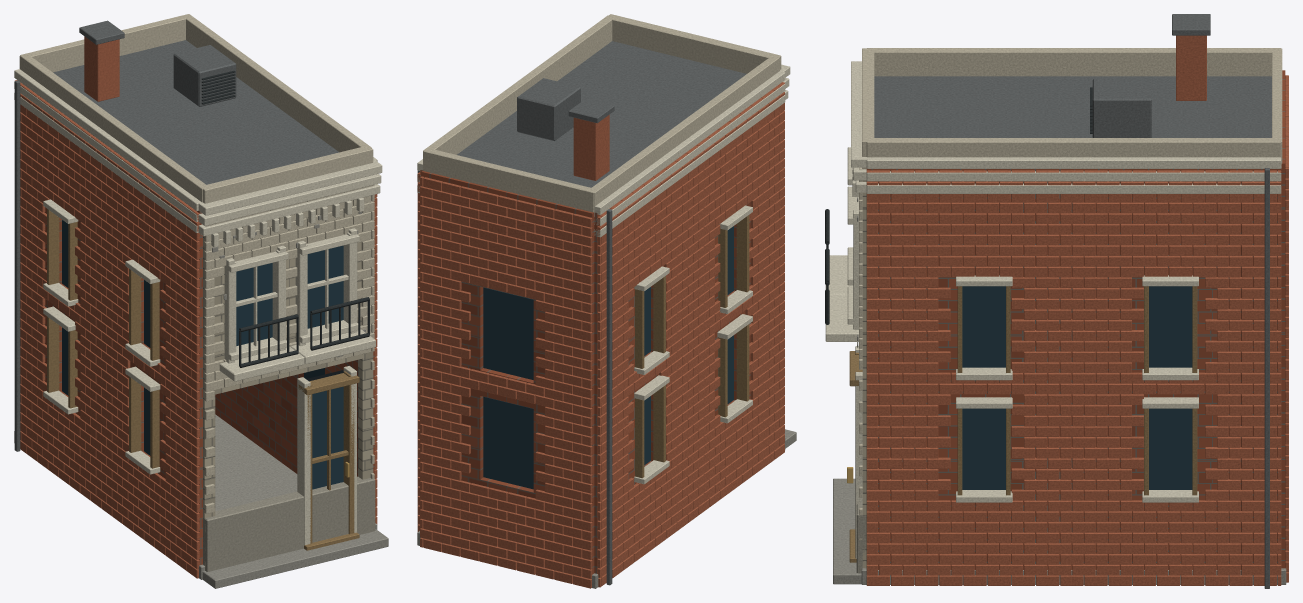
The model's file is RUNDWN15_lod0.glb.
3 views of the same model, side by side, from view 1: azimuth 30°, elevation 25°; view 2: azimuth 150°, elevation 25°; view 3: azimuth 270°, elevation 25° (orthographic). The views are drawn at different scales.
Parts seen in each view (by area): view 1: RUNDWN15_LOD0; view 2: RUNDWN15_LOD0; view 3: RUNDWN15_LOD0.
Boxes of the visible parts, x1,y1,x2,y2 form: RUNDWN15_LOD0: (14, 14, 388, 588); RUNDWN15_LOD0: (417, 14, 796, 588); RUNDWN15_LOD0: (825, 14, 1288, 588).
Bounding box in the file's own units: 3.71 × 7.85 × 6.72.
17 materials, 14 textured.
